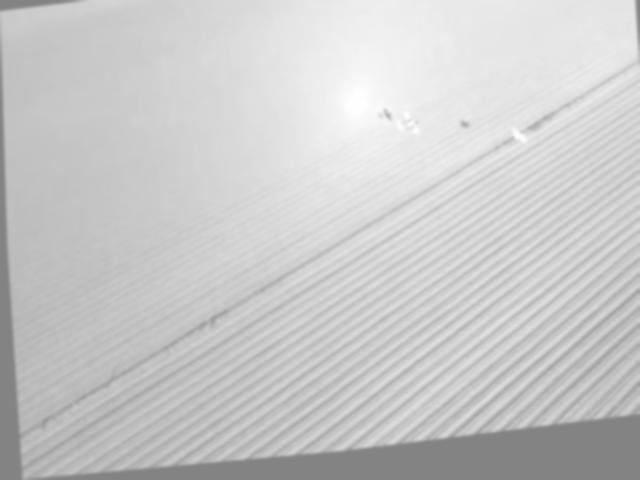hedef: (392, 115, 423, 147), (505, 133, 533, 160)
